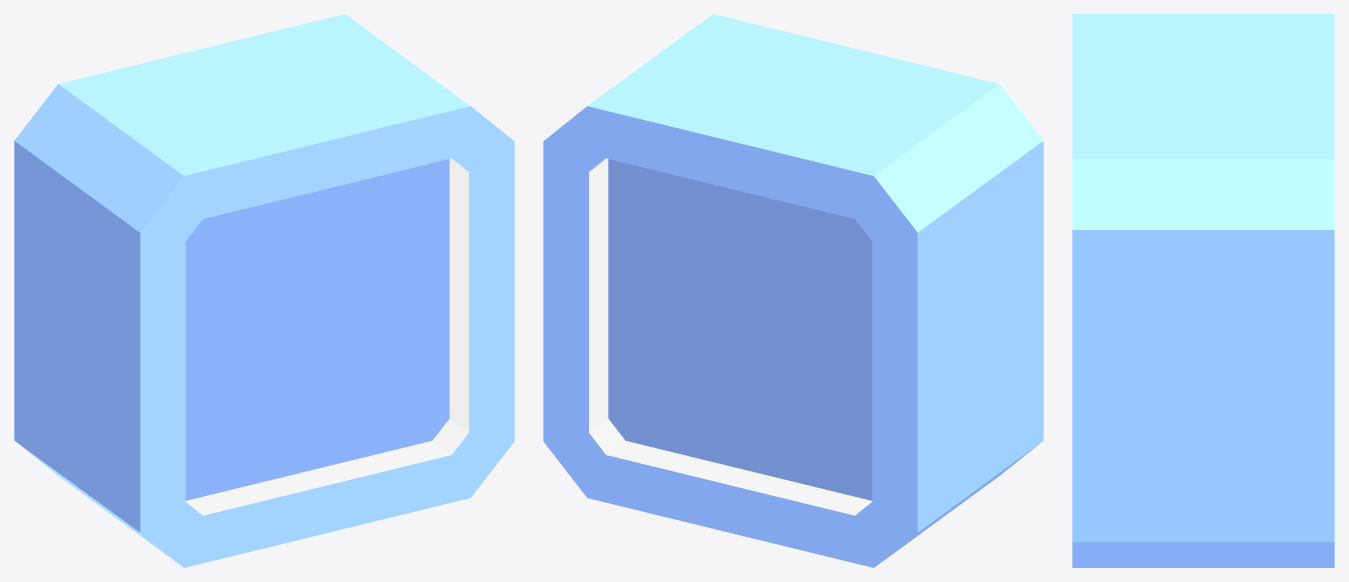
The model's file is weapon_drop.glb.
3 renders of one model, left to right at view 1: azimuth 30°, elevation 25°; view 2: azimuth 150°, elevation 25°; view 3: azimuth 270°, elevation 25°, orthographic. The views are drawn at different scales.
Visible parts, largest first — view 1: Cube; view 2: Cube; view 3: Cube.
Part boxes in pixels (bbox=[...]): Cube: bbox=[14, 14, 514, 567]; Cube: bbox=[543, 14, 1043, 567]; Cube: bbox=[1072, 14, 1334, 567].
Bounding box in the file's own units: 0.4263 × 0.4263 × 0.2482.
